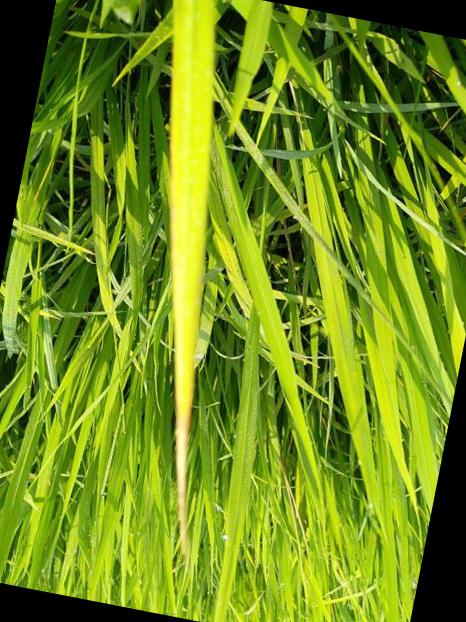Leaf Blight: (165, 0, 228, 551)
